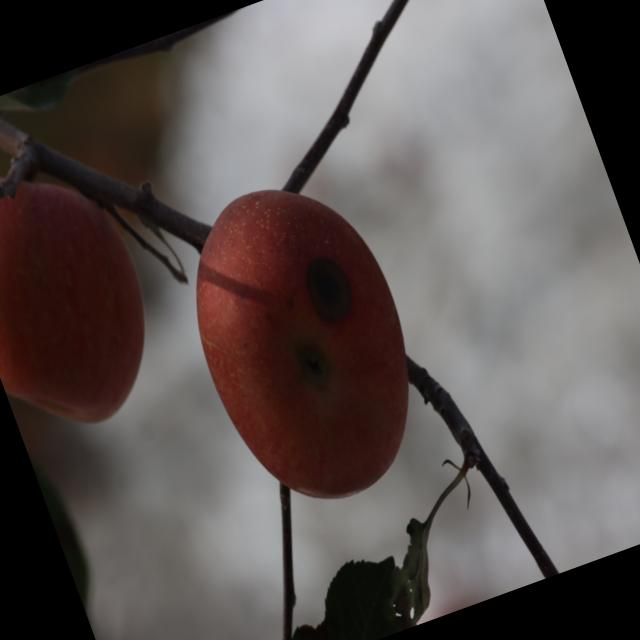rotten: (150, 147, 467, 538)
